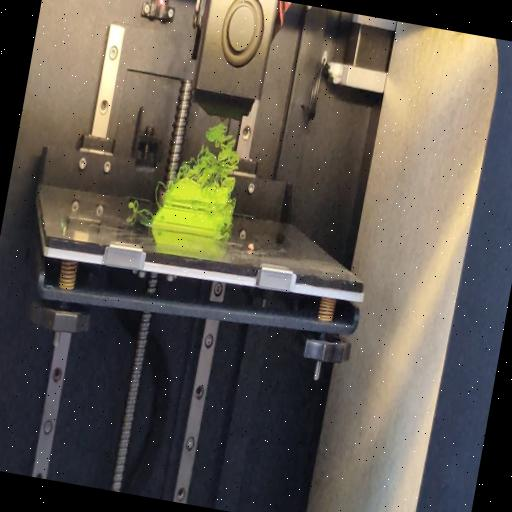spaghetti: (174, 116, 249, 194), (126, 196, 156, 218), (152, 178, 166, 200), (218, 229, 232, 242)
